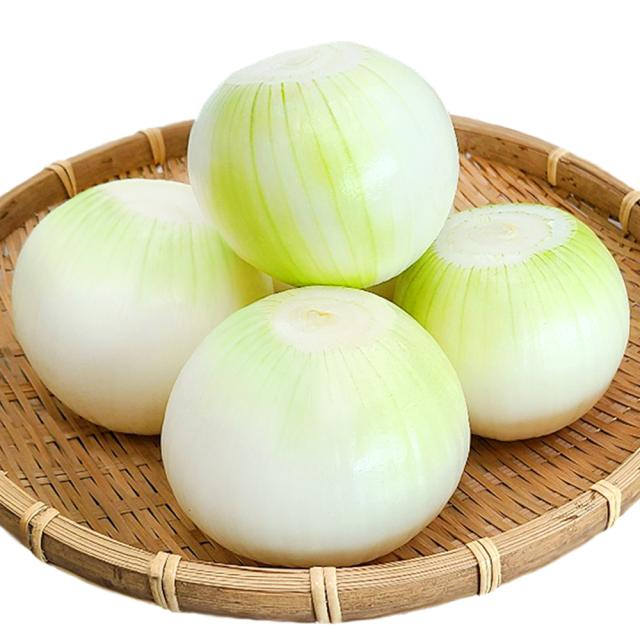onion: (2, 39, 640, 603), (159, 285, 470, 569), (186, 37, 462, 286)
